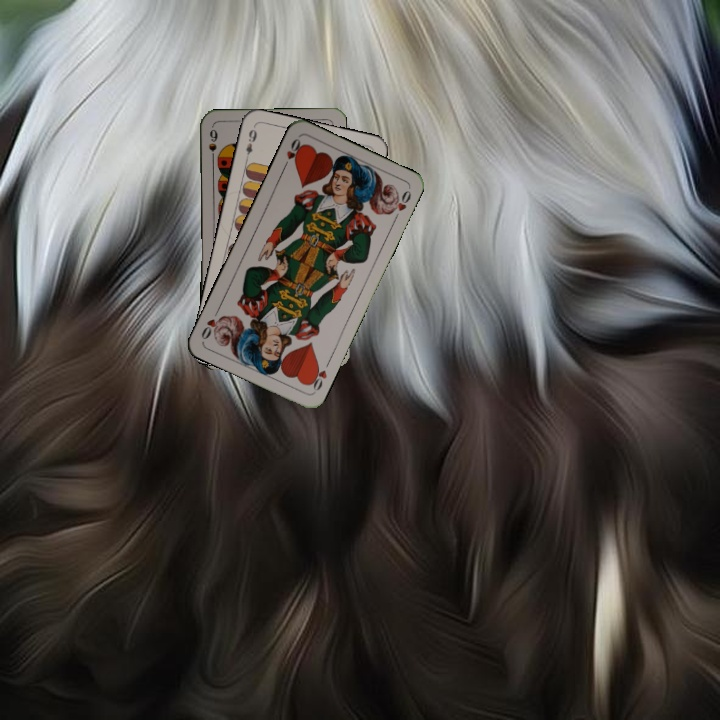E9: (242, 123, 260, 163)
HO: (305, 356, 333, 395), (279, 134, 306, 172)
S9: (205, 125, 220, 165)
